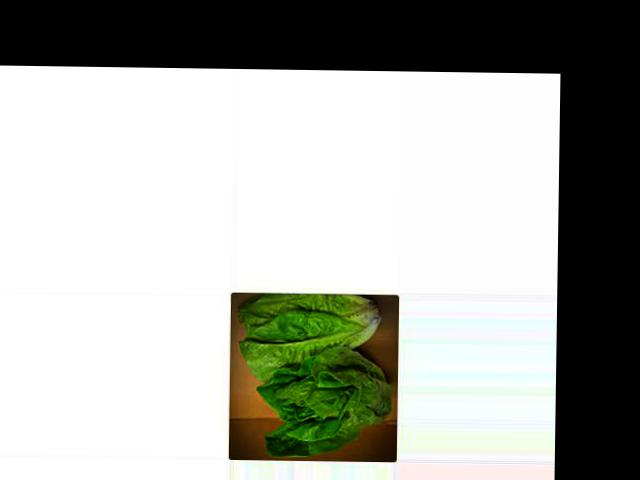lettuce: (238, 293, 385, 445)
